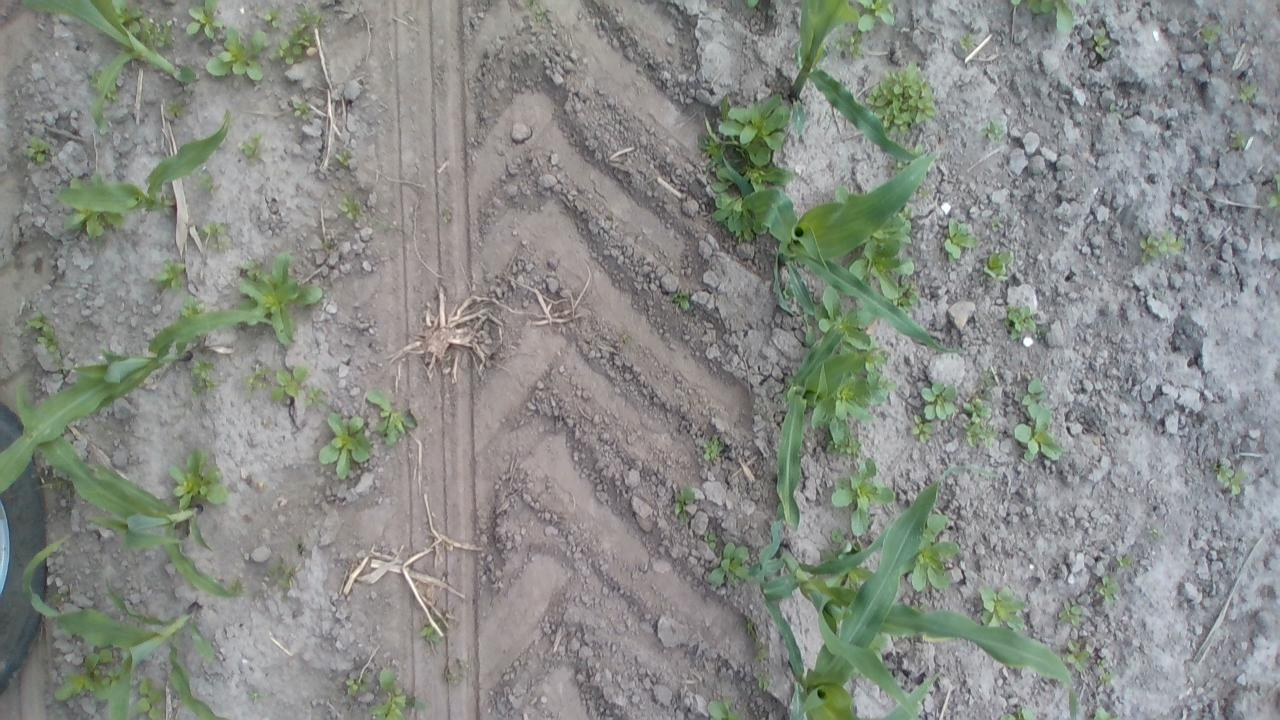Maize: (764, 464, 1006, 720), (712, 120, 964, 356), (0, 308, 293, 500), (12, 376, 246, 603), (20, 529, 244, 720), (799, 467, 956, 720), (53, 102, 234, 244), (19, 0, 204, 137), (779, 0, 927, 164), (776, 318, 864, 536), (881, 665, 943, 720)
Weeds: (230, 248, 324, 343), (706, 164, 796, 248), (862, 58, 936, 138), (716, 90, 790, 167), (828, 453, 894, 535), (826, 373, 899, 441), (53, 171, 122, 240), (165, 441, 228, 513), (1012, 374, 1062, 462), (816, 285, 876, 356), (851, 240, 916, 302), (317, 412, 372, 482), (207, 25, 270, 86), (914, 512, 958, 592), (366, 386, 421, 446), (49, 652, 104, 708), (370, 665, 426, 720), (975, 580, 1024, 628), (707, 542, 754, 590), (936, 212, 978, 262), (1026, 0, 1088, 33), (1134, 229, 1188, 266), (23, 312, 65, 358), (999, 301, 1046, 342), (275, 25, 320, 67), (916, 376, 957, 422), (182, 0, 226, 41), (960, 394, 994, 446), (262, 552, 305, 591), (264, 366, 309, 403), (854, 0, 899, 35), (149, 256, 187, 296), (1210, 461, 1250, 496), (111, 0, 147, 36), (134, 677, 164, 720), (186, 354, 218, 394), (820, 434, 864, 461), (143, 16, 176, 52), (983, 246, 1015, 281), (1064, 636, 1092, 675), (88, 68, 122, 100), (829, 30, 862, 62), (22, 130, 54, 162), (706, 694, 745, 720), (418, 616, 447, 648), (674, 481, 698, 518), (242, 361, 272, 390), (668, 282, 696, 313), (97, 646, 119, 684), (1096, 574, 1120, 608), (908, 412, 934, 443), (976, 115, 1006, 141), (290, 5, 320, 31), (340, 676, 370, 702), (699, 432, 725, 462), (1237, 75, 1260, 107), (861, 344, 888, 370), (196, 173, 222, 200), (240, 133, 264, 161), (338, 192, 362, 220), (1056, 600, 1084, 624), (302, 382, 328, 407), (179, 294, 205, 318), (1200, 19, 1223, 46), (1001, 704, 1038, 720), (258, 6, 284, 28), (1092, 22, 1110, 52), (202, 218, 228, 238), (956, 29, 978, 52), (754, 668, 774, 692), (164, 94, 184, 118), (1268, 169, 1280, 208), (699, 133, 720, 155), (528, 0, 550, 21), (1232, 122, 1248, 150), (242, 684, 262, 706), (1090, 705, 1118, 720), (242, 258, 262, 278), (334, 148, 352, 170), (702, 528, 718, 552), (1096, 668, 1116, 686), (752, 638, 768, 660), (742, 614, 757, 637), (230, 577, 248, 596), (1107, 100, 1122, 121), (1113, 555, 1135, 569), (291, 100, 310, 116), (1145, 523, 1162, 540), (988, 212, 1003, 230), (319, 234, 333, 252), (441, 206, 454, 223), (50, 588, 64, 603), (784, 282, 794, 298), (746, 0, 763, 9), (1096, 657, 1108, 668), (1009, 0, 1022, 8)
